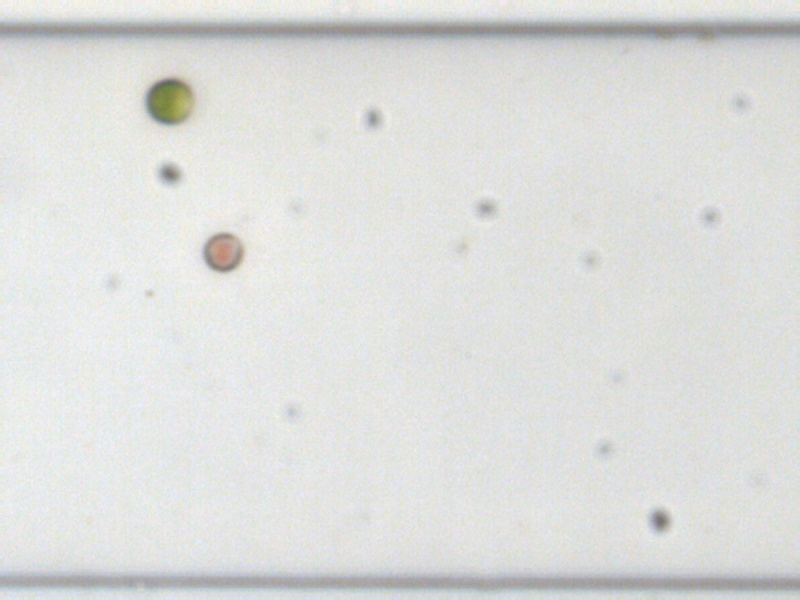Platymonas: (143, 79, 192, 123)
Porphyridium: (201, 231, 243, 272)
